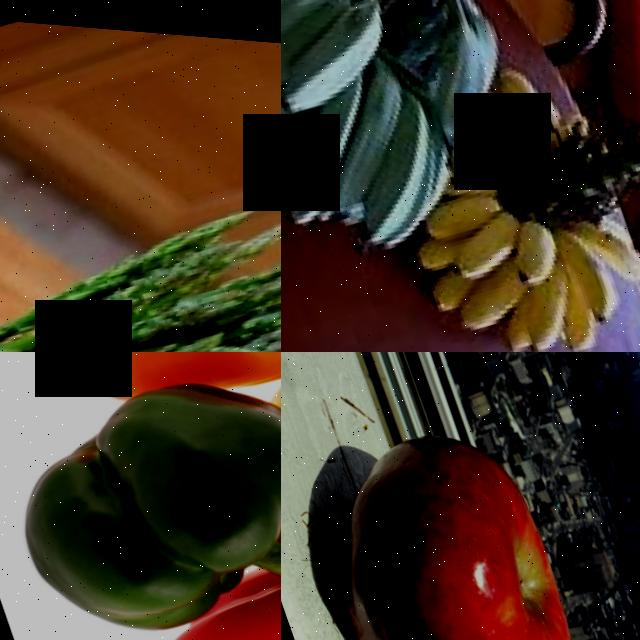apple: (281, 368, 617, 640)
asparagus: (0, 179, 281, 352)
banana: (329, 86, 464, 251), (281, 0, 409, 131), (406, 1, 513, 148), (448, 251, 535, 340), (416, 173, 513, 244), (514, 266, 592, 352), (501, 49, 563, 155), (499, 200, 572, 282), (562, 230, 620, 330), (281, 0, 367, 65), (460, 199, 523, 268), (594, 197, 640, 283), (479, 84, 523, 158), (447, 152, 503, 197), (281, 80, 306, 174), (472, 128, 502, 173)
bell pepper: (0, 352, 281, 640), (138, 481, 281, 640), (18, 352, 281, 425)
